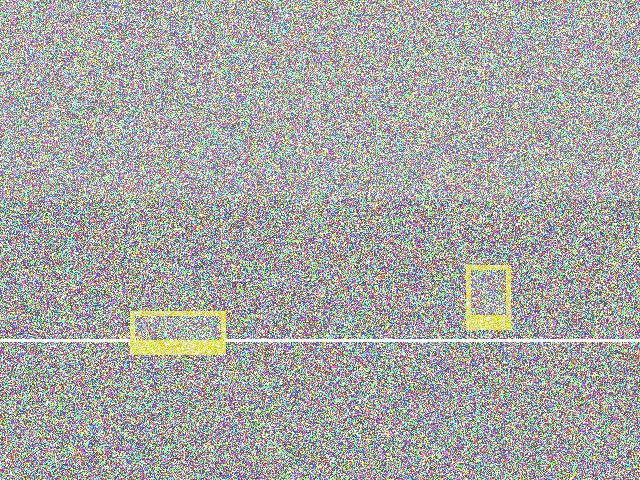bus: (136, 228, 248, 359)
car: (277, 225, 454, 321)
